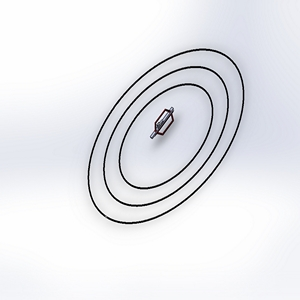circle: (81, 43, 251, 230)
submarine: (146, 103, 182, 145)
